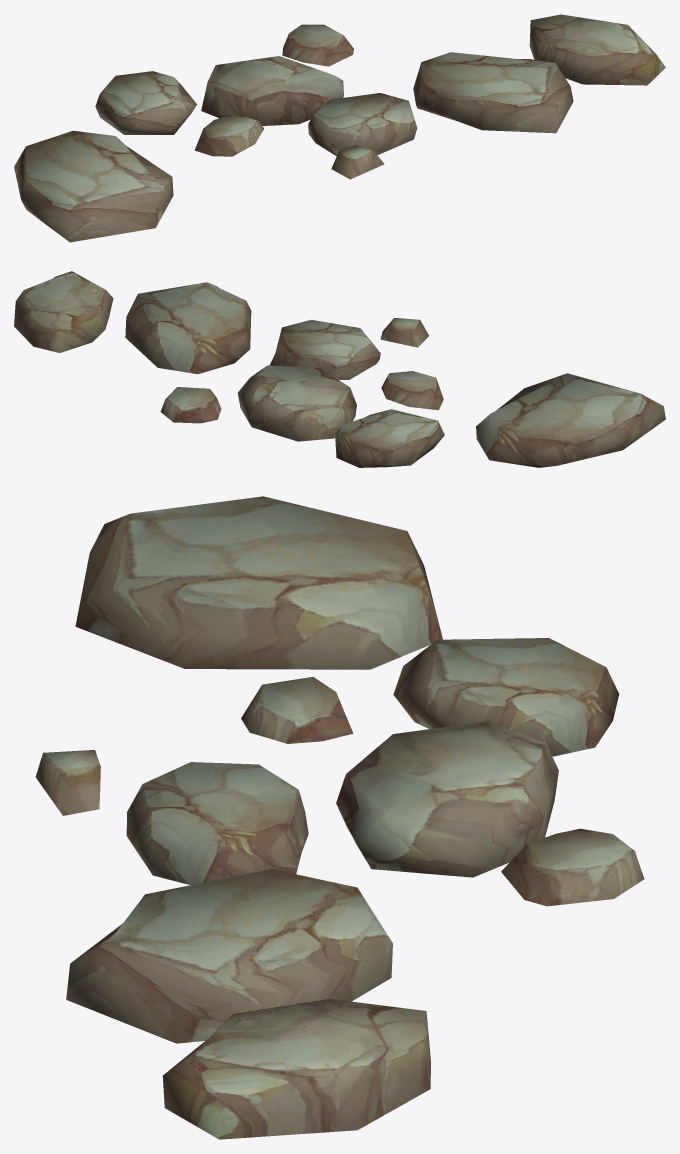
File: Map_08_stone08.FBX
3 views of the same model, one above another, from view 1: azimuth 30°, elevation 25°; view 2: azimuth 150°, elevation 25°; view 3: azimuth 270°, elevation 25° (orthographic). The views are drawn at different scales.
Visible parts, largest first — view 1: Map_08_stone08; view 2: Map_08_stone08; view 3: Map_08_stone08.
Part boxes in pixels (bbox=[...]): Map_08_stone08: bbox=[14, 14, 665, 242]; Map_08_stone08: bbox=[14, 271, 665, 467]; Map_08_stone08: bbox=[35, 496, 644, 1139].
Size of the model in its own units: 78.74 by 3.78 by 34.17.
